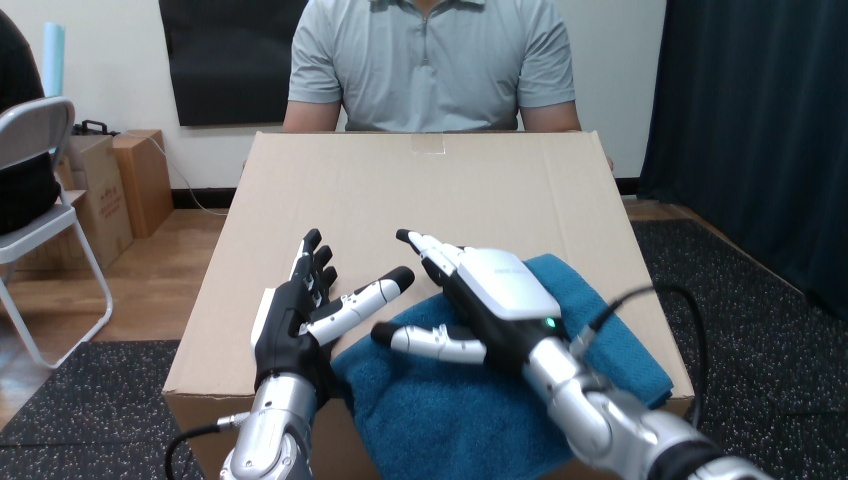left robot hand: (372, 229, 770, 479), (165, 229, 414, 479)
